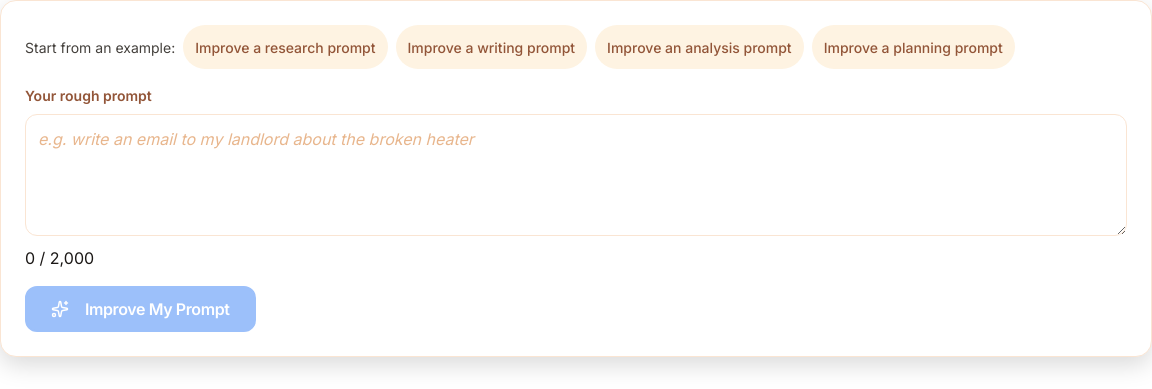
PromptImprover › shows a character counter that tracks input
This screenshot has width=1152, height=389.
Type "hello" into the text box.
click(576, 175); type("hello")  # box [25,114,1127,236]
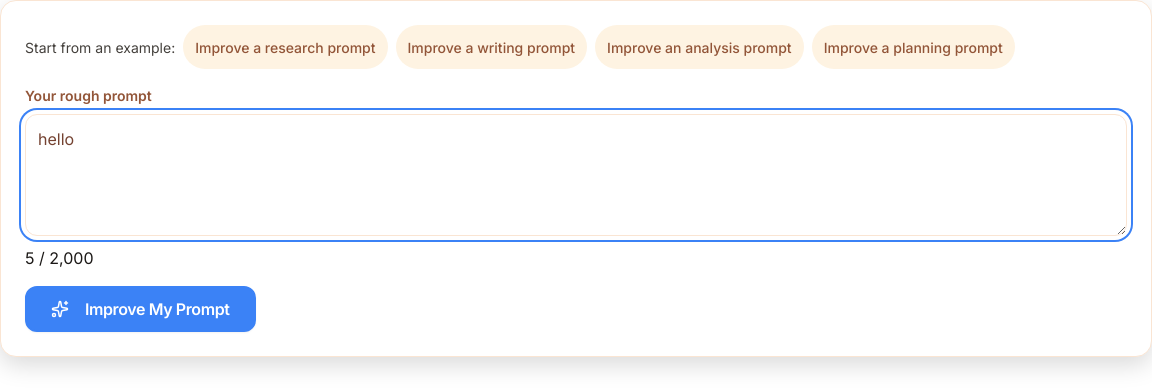
Check: the text "5 / 2,000" is shown, box [25,246,94,270]
